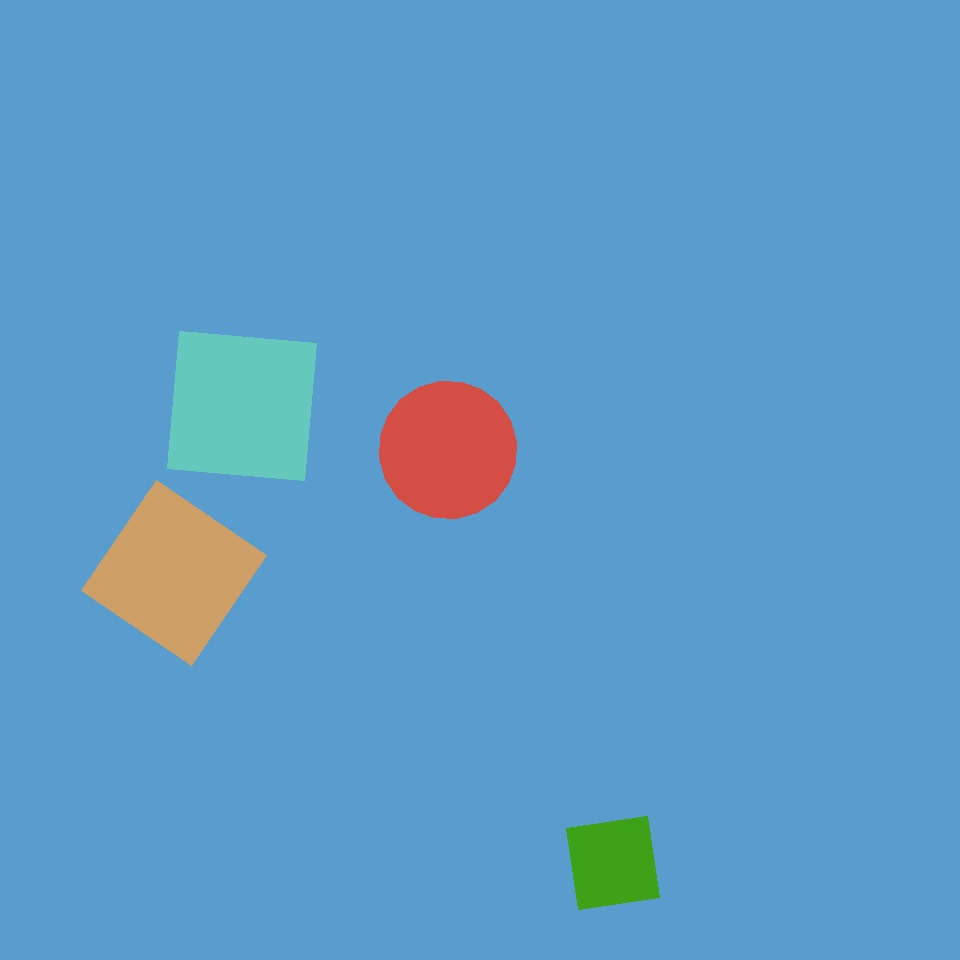circle: (363, 618, 670, 925), (268, 738, 373, 836)
square: (45, 706, 266, 926), (247, 285, 460, 498), (81, 481, 266, 666), (168, 332, 316, 480), (237, 141, 373, 277), (566, 816, 660, 910)
triangle: (380, 382, 516, 518)
